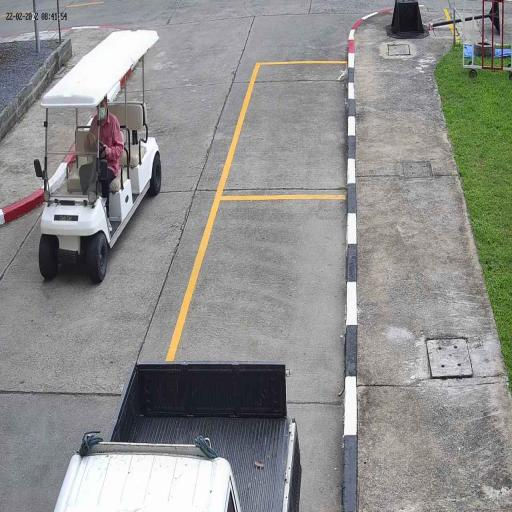car: (56, 360, 304, 512), (35, 30, 162, 278)
